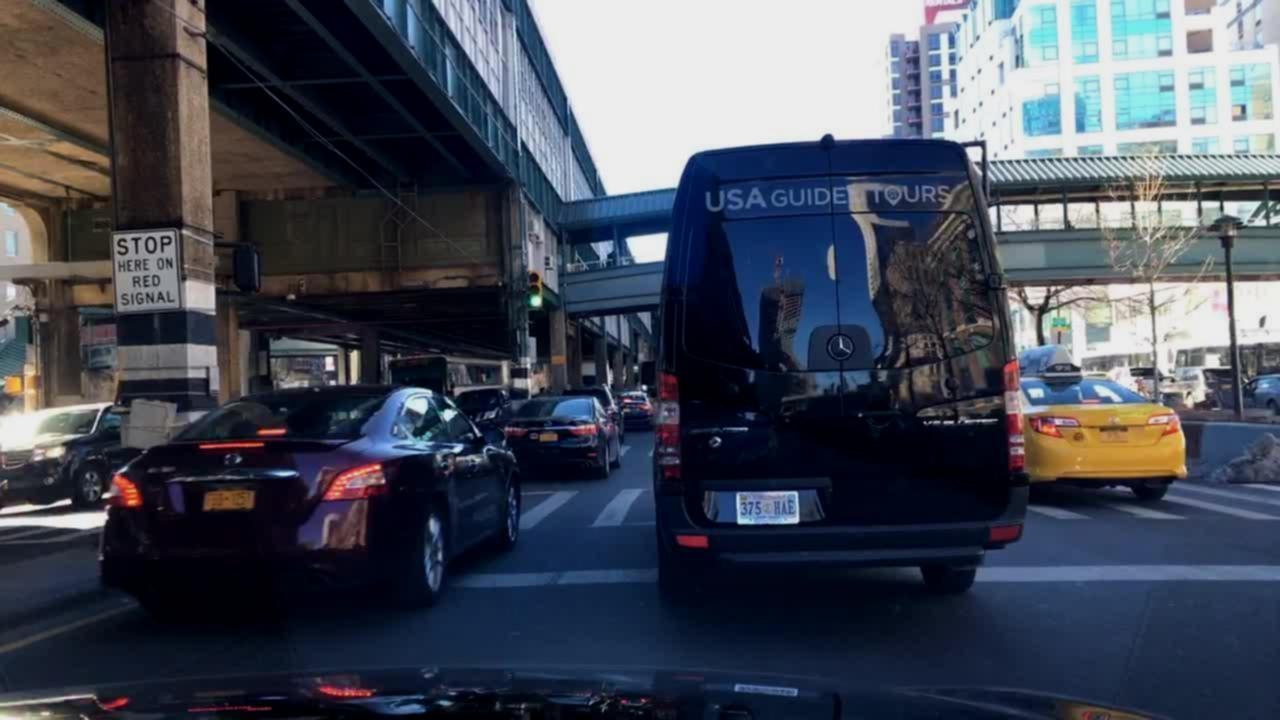Mercedes: (826, 331, 857, 363)
